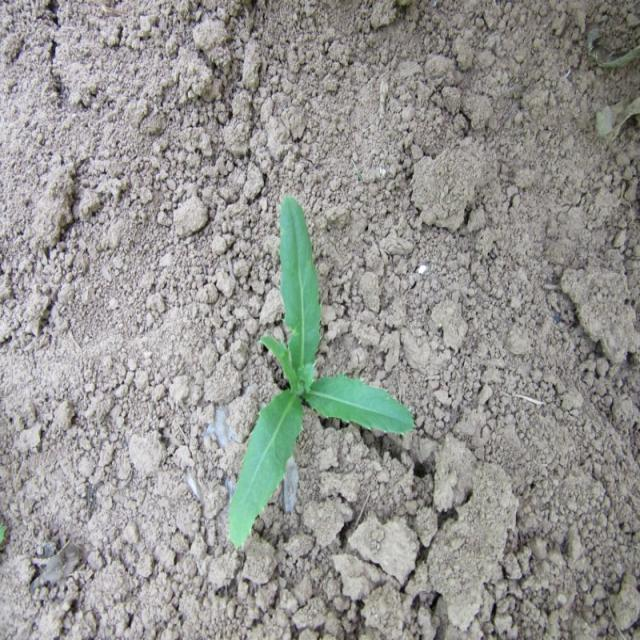field_thistle: (218, 188, 412, 566)
